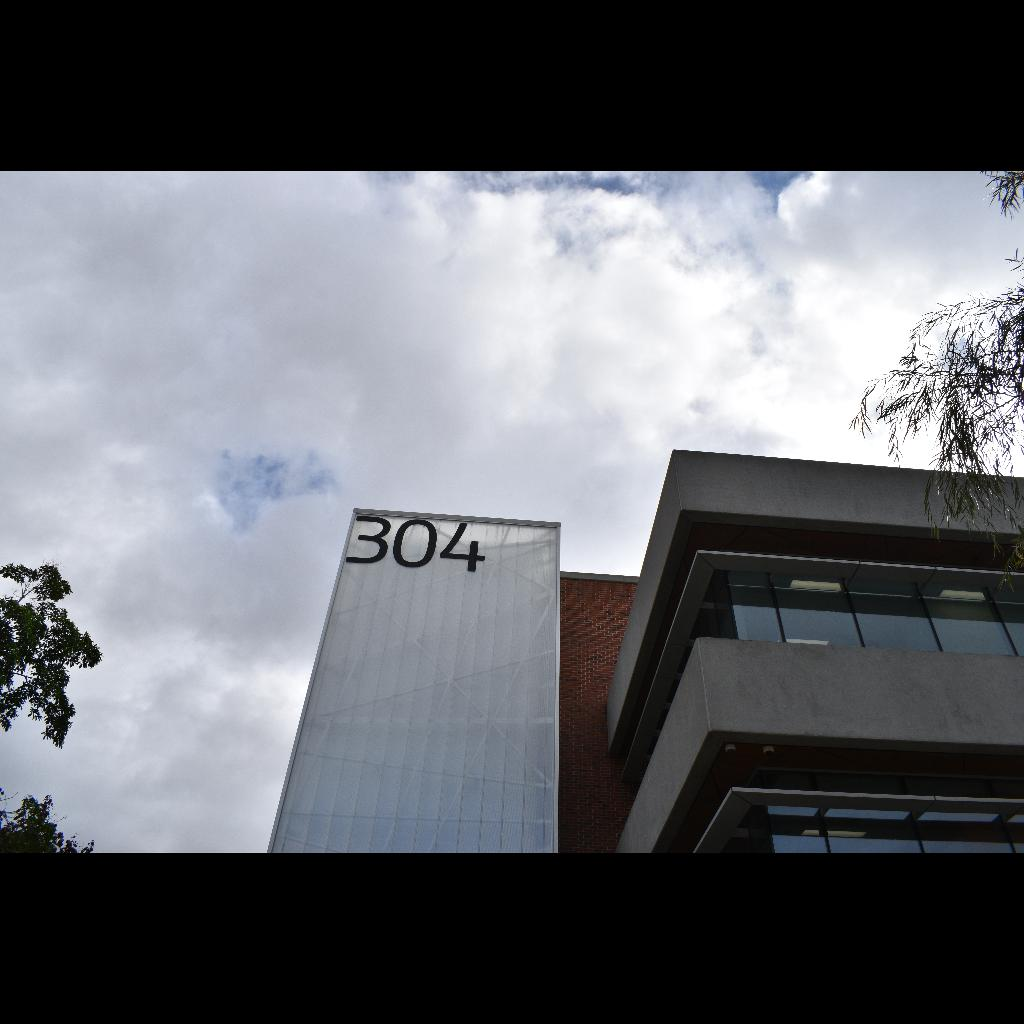BuildingCodes: (340, 512, 490, 574)
